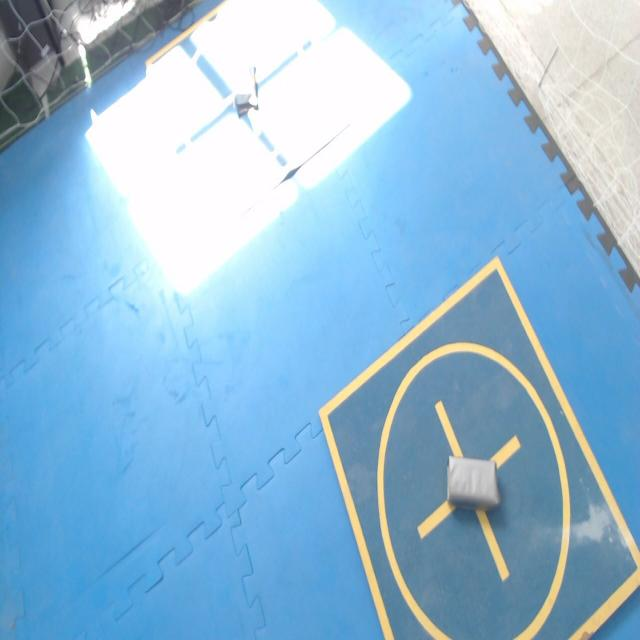lipo: (448, 456, 499, 508), (234, 62, 258, 115)
